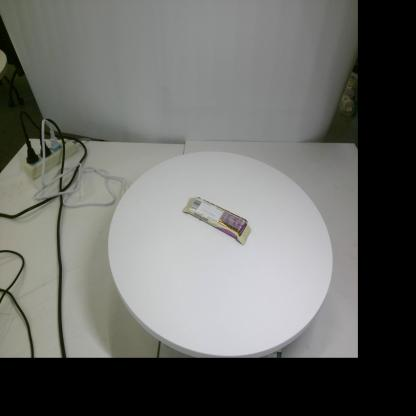Chocolate: (182, 197, 251, 246)
